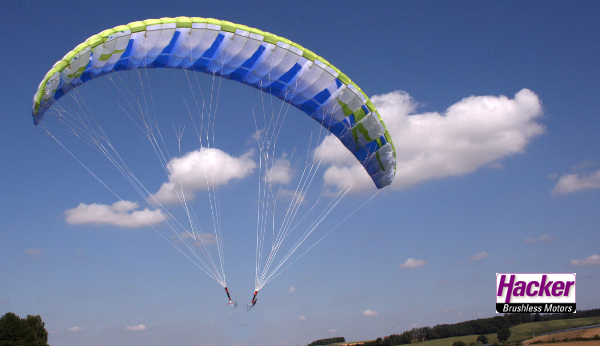Paraglider: (26, 15, 397, 191)
